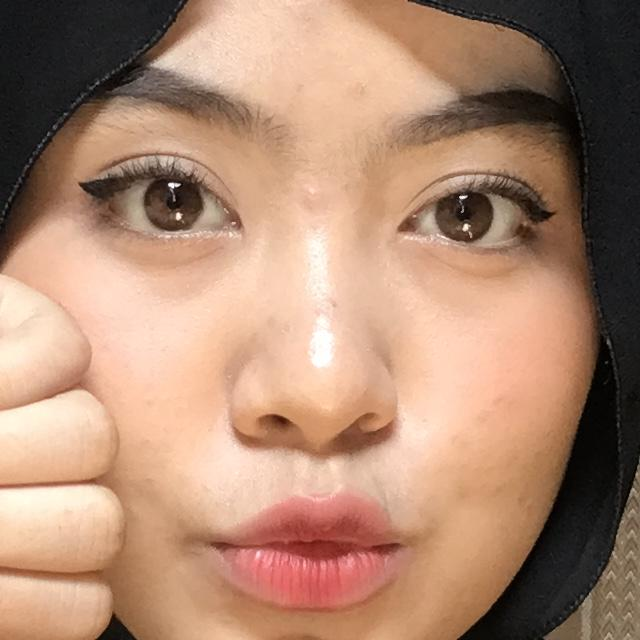sedih: (0, 96, 335, 640)
